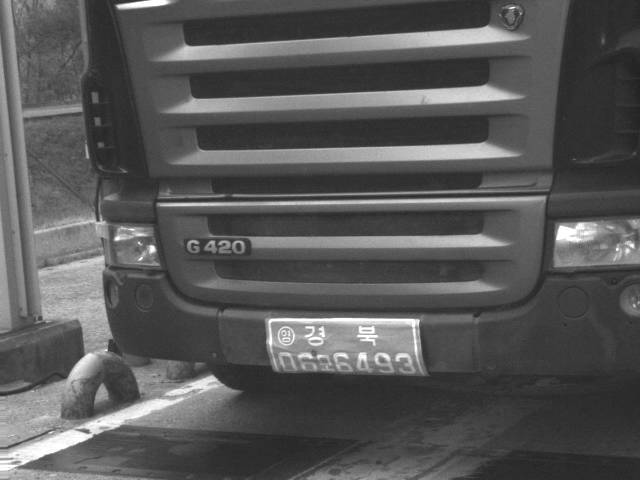car: (73, 1, 639, 395)
plate: (267, 316, 428, 378)
